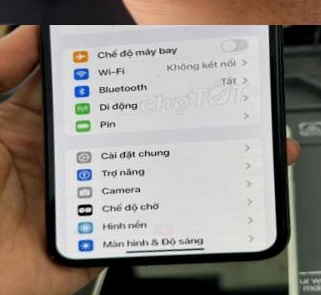scratch: (40, 247, 64, 269)
